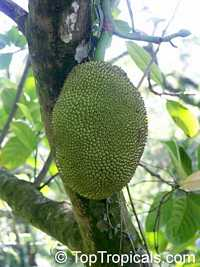jackfruit: (48, 58, 149, 200)
